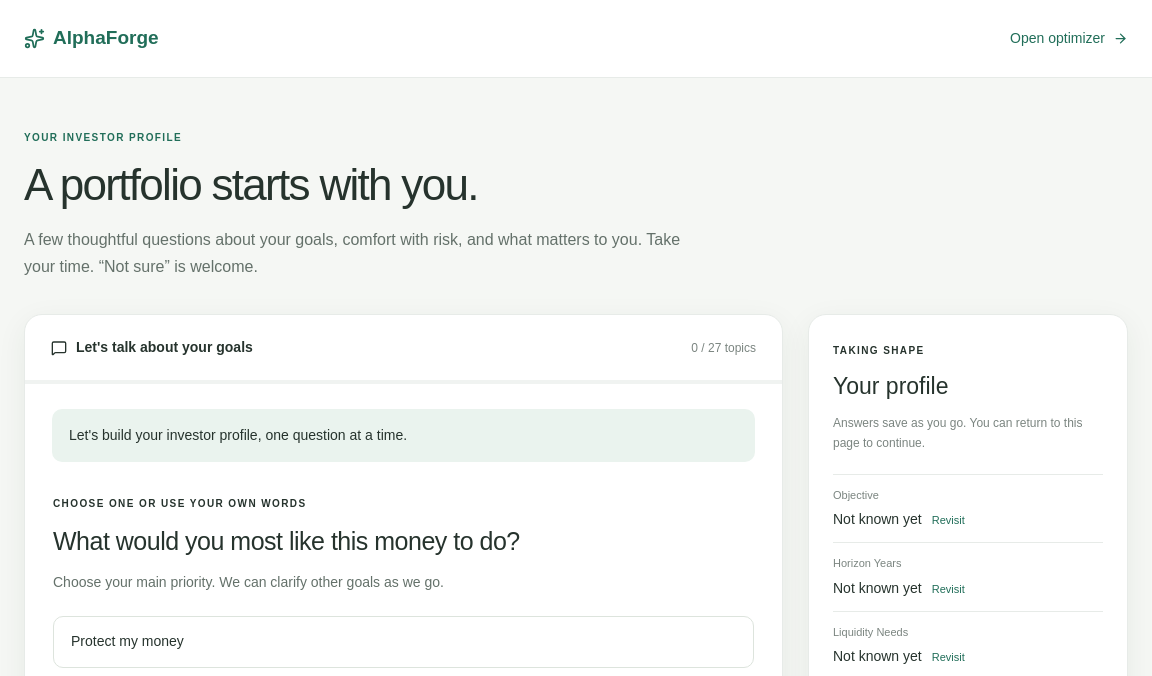
renders choices, saves the selected answer, and follows the returned next question
Expected: the heading "What would you most like this money to do?" is shown, [53, 527, 520, 555]
Click the button "Protect my money" at (127, 641), box [53, 616, 754, 668]
(page scrolled)
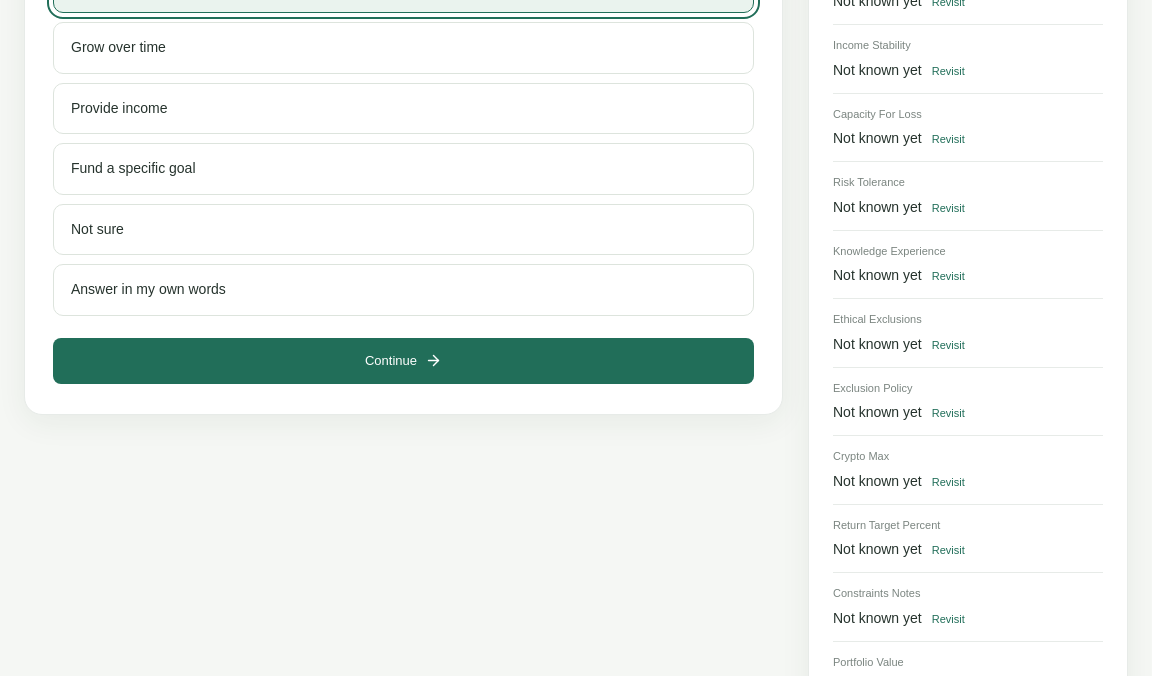
Click the button "Continue" at (404, 361), box [53, 338, 754, 384]
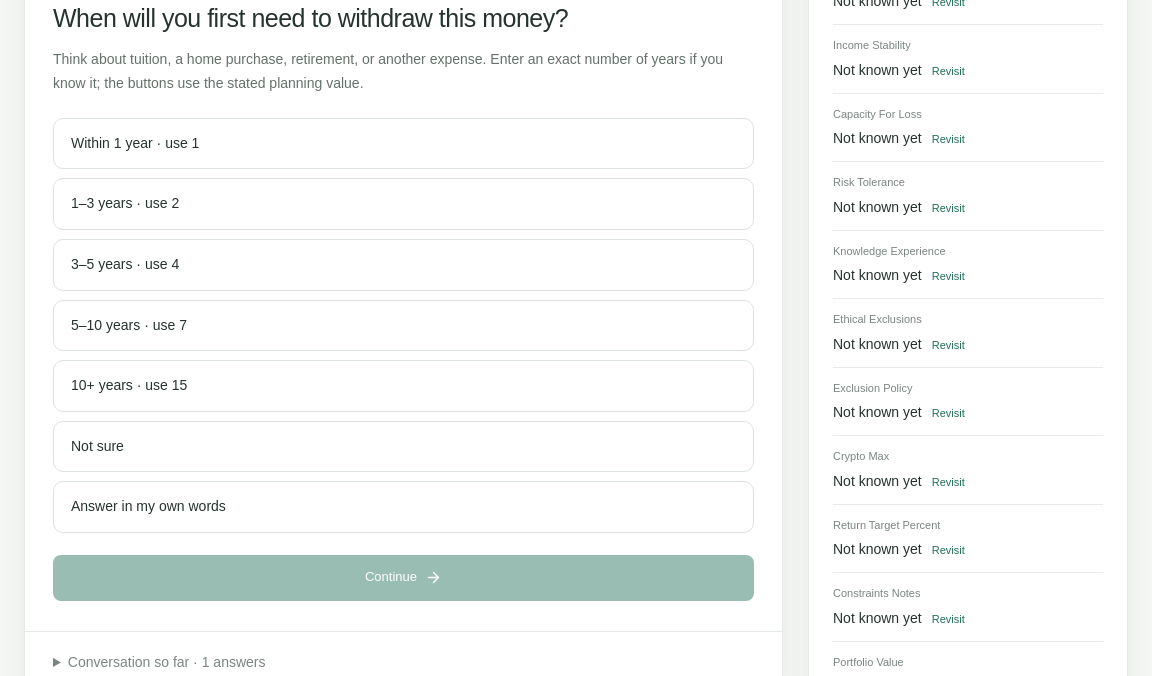
Result: the heading "When will you first need to withdraw this money?" is shown at [53, 4, 568, 32]
